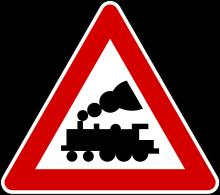Barrier Ahead: (11, 10, 211, 188)
